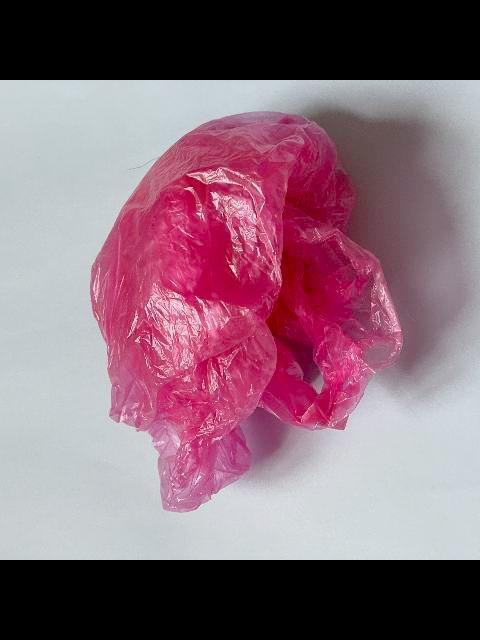plasticbag: (86, 109, 406, 515)
